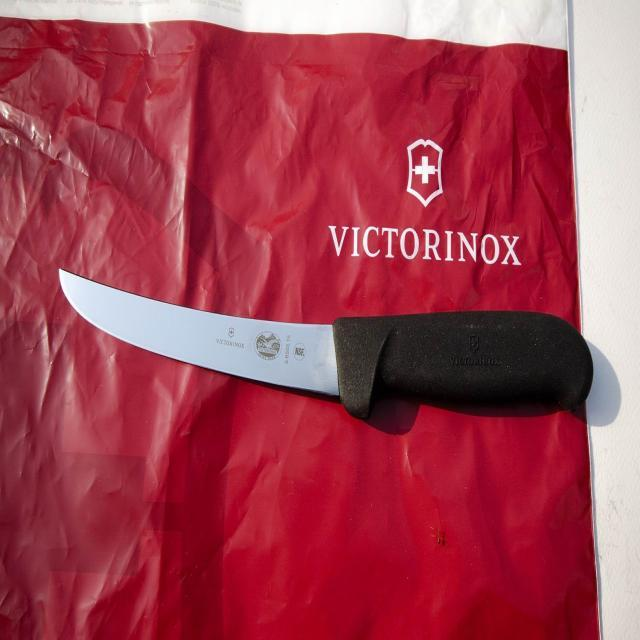Pisau: (45, 254, 598, 418)
